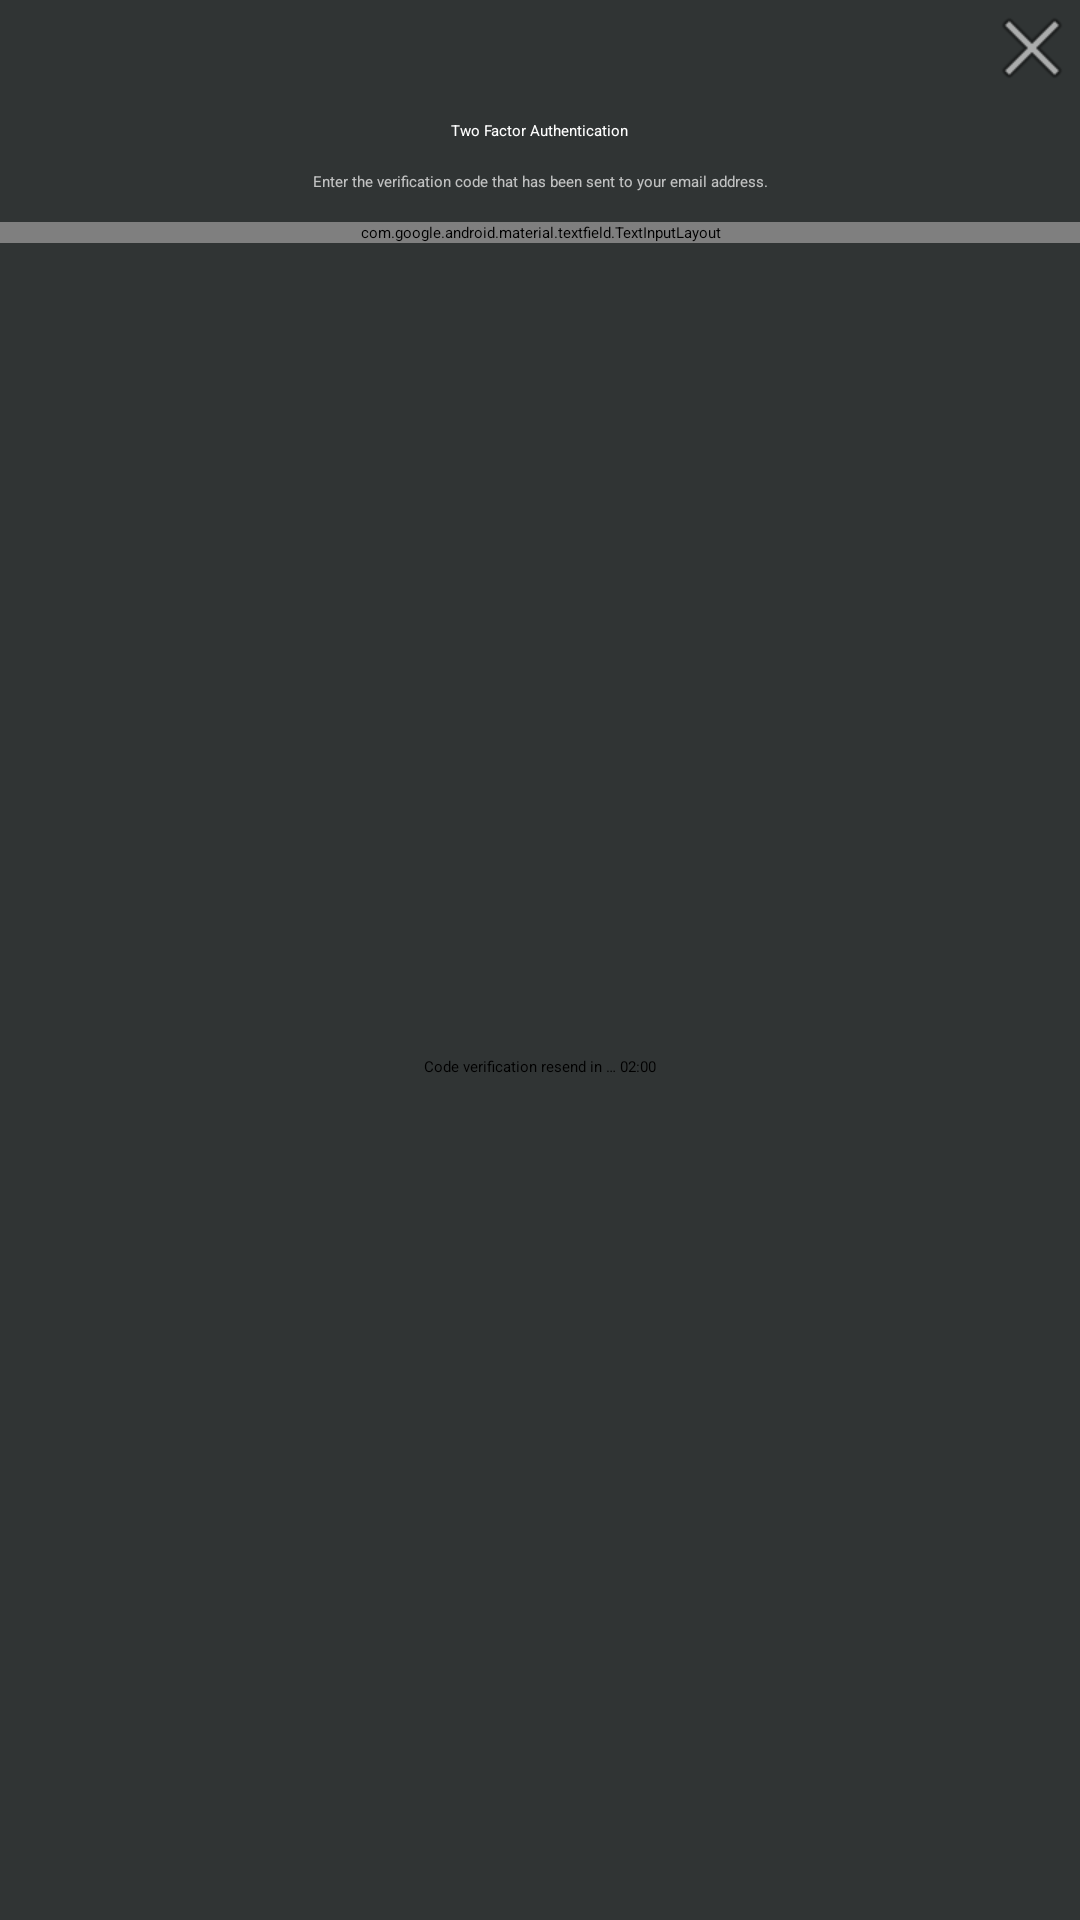

Locate icon controls on the screen. Image size 1080w x 1920h, boxes as (x1, y1, x2, y2).
Close: (1005, 21, 1059, 75)
